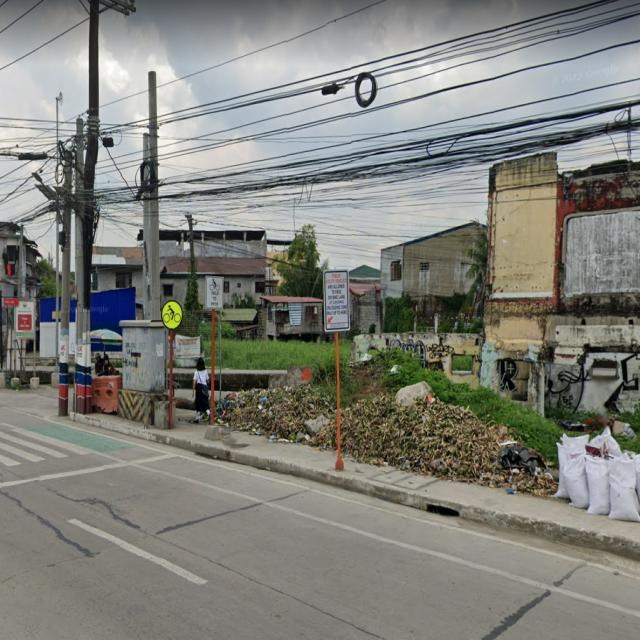bike lane: (156, 295, 188, 342)
